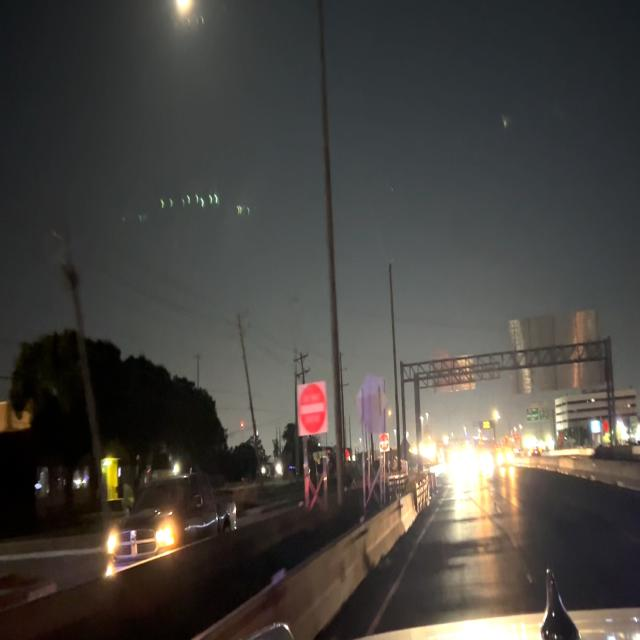back-of-sign: (509, 311, 606, 391), (356, 372, 389, 431)
